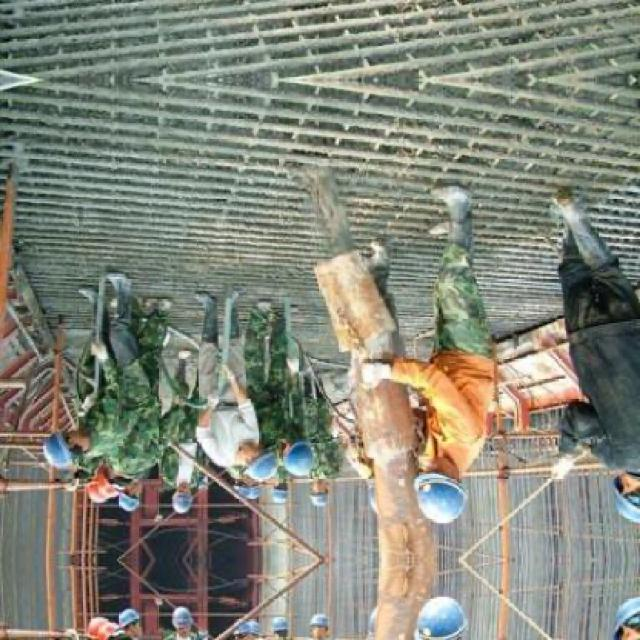con casco: (384, 421, 489, 524), (30, 426, 95, 476), (608, 463, 640, 537), (163, 484, 222, 522), (268, 433, 312, 474), (234, 442, 266, 489), (122, 490, 155, 522), (86, 473, 128, 497)
